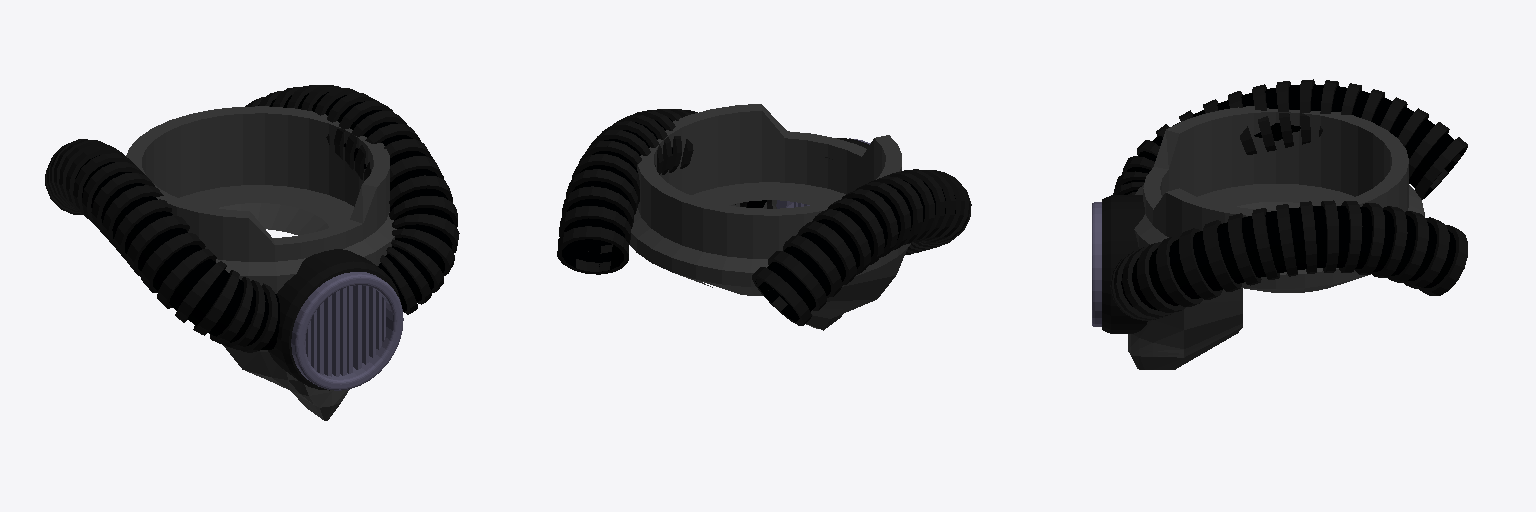
File: SoB_Rebreather.obj
3 renders of one model, left to right at view 1: azimuth 30°, elevation 25°; view 2: azimuth 150°, elevation 25°; view 3: azimuth 270°, elevation 25°, orthographic.
Parts seen in each view (by area): view 1: Rebreather Rebreather_A, Rebreather Rebreather_Pipe_Outer_B, Rebreather Rebreather_Pipe_Outer_A, Rebreather Rebreather_Slot, Rebreather Rebreather_Pipe_Inner_B, Rebreather Rebreather_B, Rebreather Rebreather_Pipe_Inner_A; view 2: Rebreather Rebreather_A, Rebreather Rebreather_Pipe_Outer_B, Rebreather Rebreather_Pipe_Outer_A, Rebreather Rebreather_Pipe_Inner_B, Rebreather Rebreather_Pipe_Inner_A; view 3: Rebreather Rebreather_A, Rebreather Rebreather_Pipe_Outer_A, Rebreather Rebreather_Pipe_Inner_A, Rebreather Rebreather_Pipe_Outer_B, Rebreather Rebreather_Pipe_Inner_B, Rebreather Rebreather_B, Rebreather Rebreather_Slot.
Boxes of the visible parts, x1=… form: Rebreather Rebreather_A: x1=126, y1=106, x2=396, y2=420; Rebreather Rebreather_Pipe_Outer_B: x1=45, y1=139, x2=277, y2=352; Rebreather Rebreather_Pipe_Outer_A: x1=245, y1=85, x2=459, y2=314; Rebreather Rebreather_Slot: x1=291, y1=272, x2=403, y2=390; Rebreather Rebreather_Pipe_Inner_B: x1=75, y1=155, x2=279, y2=349; Rebreather Rebreather_B: x1=268, y1=249, x2=400, y2=390; Rebreather Rebreather_Pipe_Inner_A: x1=258, y1=92, x2=453, y2=311; Rebreather Rebreather_A: x1=629, y1=104, x2=910, y2=330; Rebreather Rebreather_Pipe_Outer_B: x1=752, y1=169, x2=971, y2=325; Rebreather Rebreather_Pipe_Outer_A: x1=557, y1=109, x2=747, y2=274; Rebreather Rebreather_Pipe_Inner_B: x1=755, y1=180, x2=955, y2=321; Rebreather Rebreather_Pipe_Inner_A: x1=562, y1=118, x2=766, y2=271; Rebreather Rebreather_A: x1=1128, y1=106, x2=1424, y2=369; Rebreather Rebreather_Pipe_Outer_A: x1=1110, y1=200, x2=1467, y2=320; Rebreather Rebreather_Pipe_Inner_A: x1=1121, y1=206, x2=1455, y2=310; Rebreather Rebreather_Pipe_Outer_B: x1=1113, y1=79, x2=1467, y2=199; Rebreather Rebreather_Pipe_Inner_B: x1=1123, y1=84, x2=1464, y2=195; Rebreather Rebreather_B: x1=1102, y1=195, x2=1147, y2=333; Rebreather Rebreather_Slot: x1=1092, y1=202, x2=1101, y2=326.
Bounding box in the file's own units: 31.72 × 21.61 × 32.86.